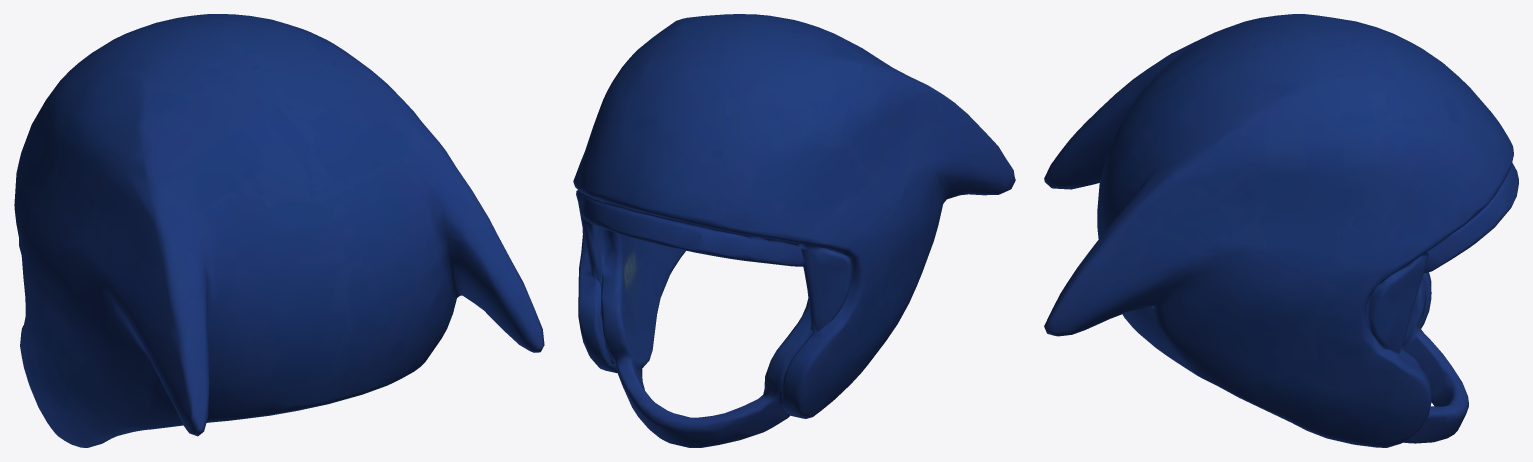
File: helmet-aero.glb
3 views of the same model, side by side, from view 1: azimuth 30°, elevation 25°; view 2: azimuth 150°, elevation 25°; view 3: azimuth 270°, elevation 25° (orthographic). The views are drawn at different scales.
Visible parts, largest first — view 1: helmet-aero; view 2: helmet-aero; view 3: helmet-aero.
Part boxes in pixels (x1=…): helmet-aero: x1=14, y1=14, x2=544, y2=447; helmet-aero: x1=573, y1=14, x2=1015, y2=447; helmet-aero: x1=1044, y1=14, x2=1518, y2=447.
Bounding box in the file's own units: 0.7714 × 0.9051 × 1.
1 material, 1 textured.
